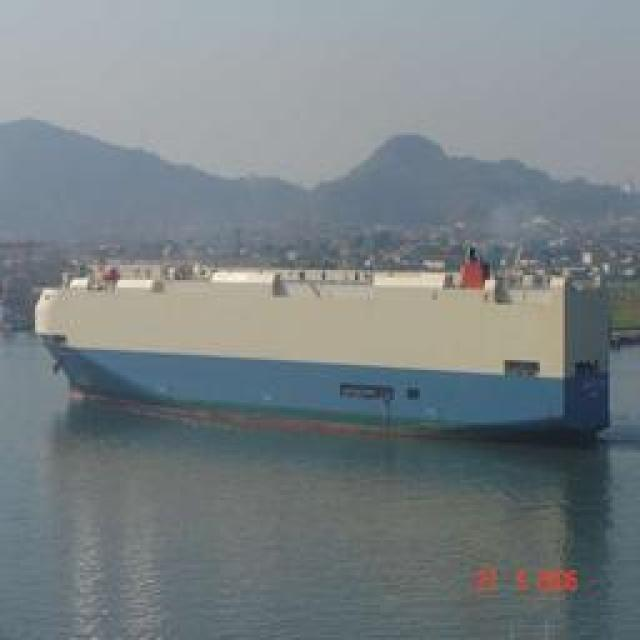CIV_Ship: (39, 254, 616, 438)
